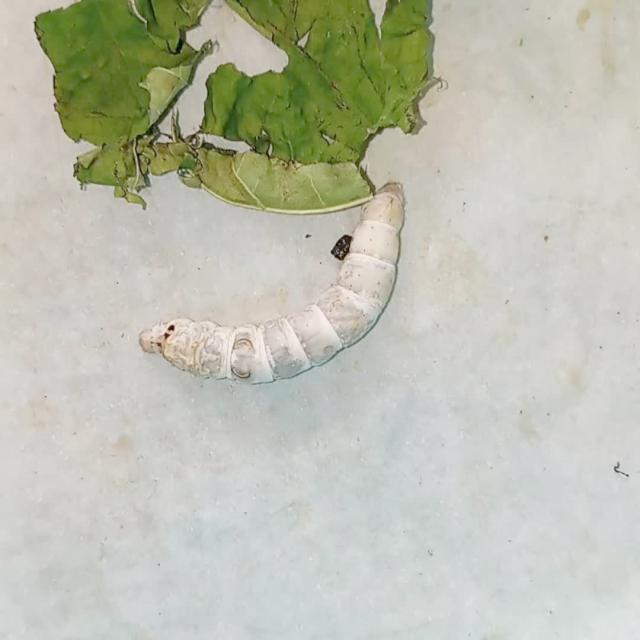Grasserie: (132, 170, 416, 402)
